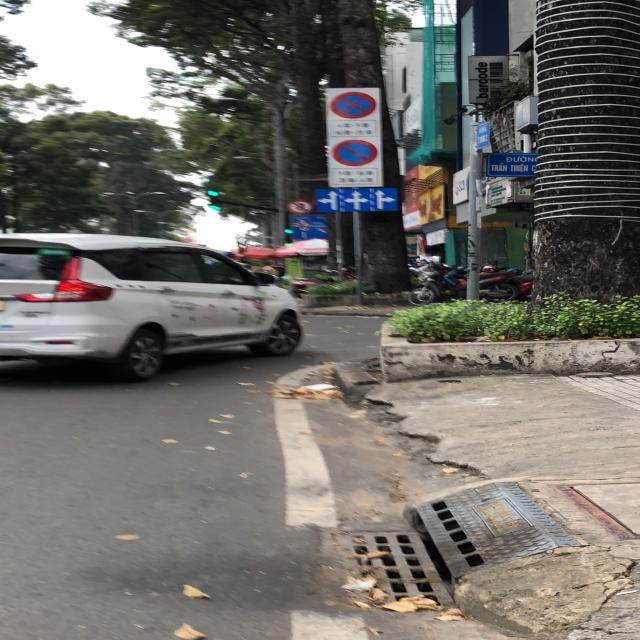Bien bao cam do xe: (329, 138, 388, 169)
Bien bao cam dung xe va do xe: (331, 92, 384, 119)
Bien bao cam quay dau xe: (286, 198, 312, 214)
